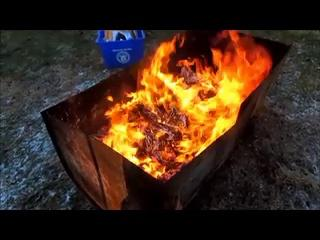Fire: (144, 36, 230, 166)
